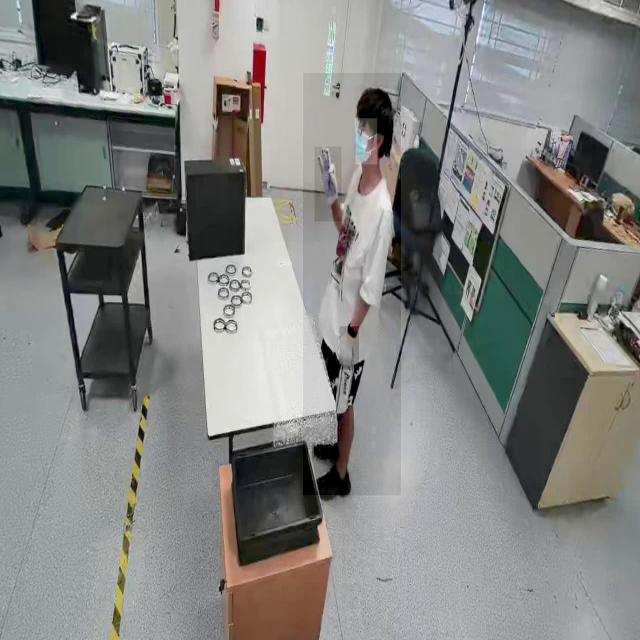face_mask: (355, 119, 377, 164)
hand_glove: (314, 147, 342, 221), (340, 326, 360, 371)
head_nohelmet: (354, 85, 392, 118)
person: (303, 73, 401, 496)
shoes: (311, 462, 355, 506)
